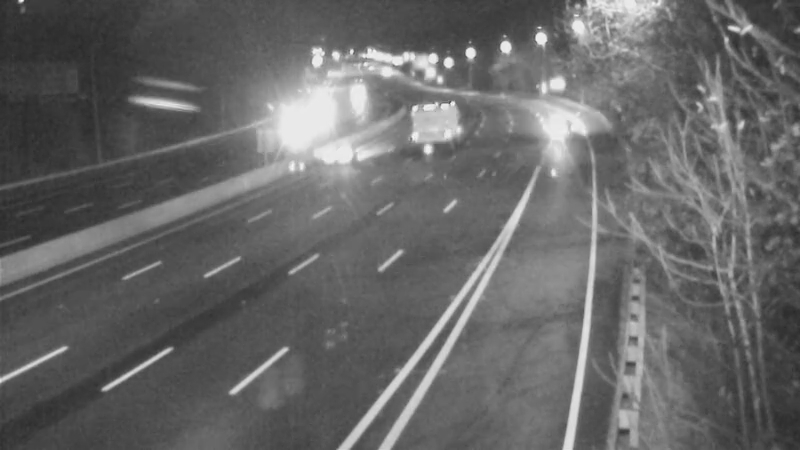vehicle: (532, 102, 582, 152), (400, 96, 450, 146), (316, 125, 366, 175), (272, 104, 322, 154), (332, 63, 382, 113)
